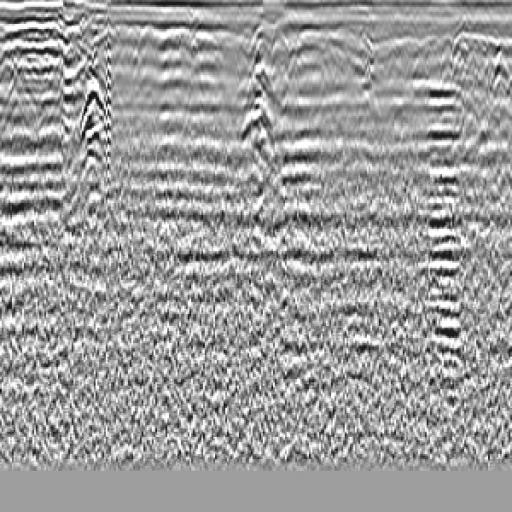metalic: (48, 11, 129, 240)
